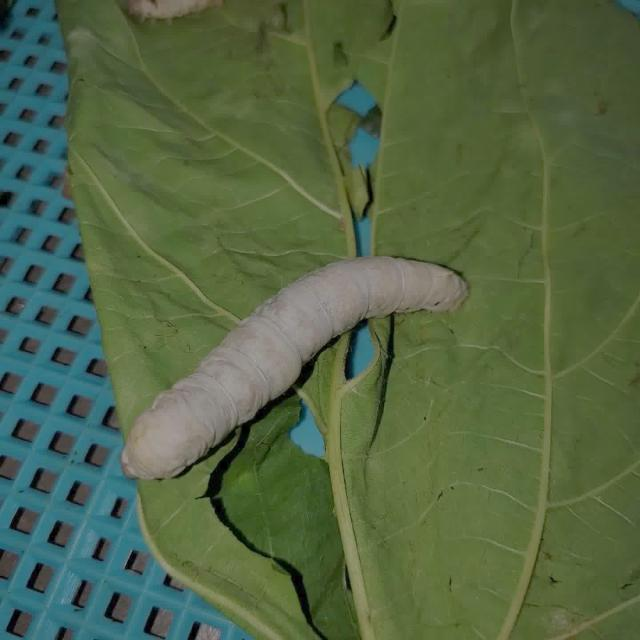Grasserie: (106, 229, 470, 487)
